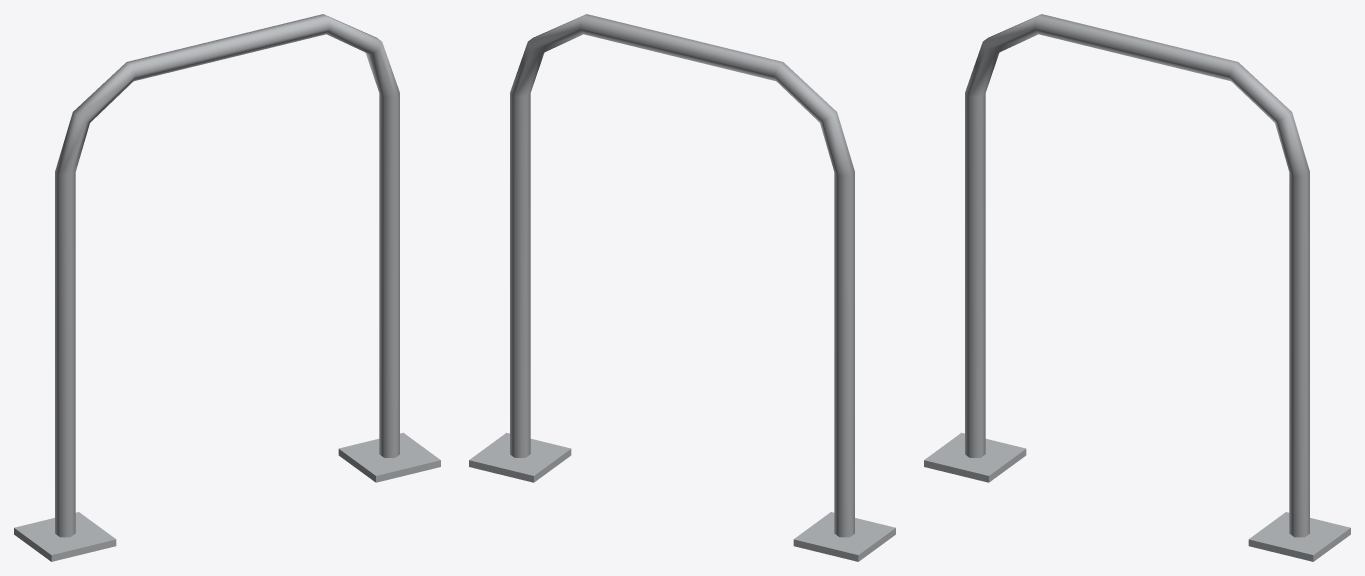
The model's file is rack.glb.
3 views of the same model, side by side, from view 1: azimuth 30°, elevation 25°; view 2: azimuth 150°, elevation 25°; view 3: azimuth 330°, elevation 25° (orthographic).
Visible parts, largest first — view 1: bike; view 2: bike; view 3: bike.
Boxes of the visible parts, x1,y1,x2,y2 form: bike: (14, 14, 440, 561); bike: (469, 14, 895, 561); bike: (924, 14, 1350, 561).
Bounding box in the file's own units: 0.72 × 0.8142 × 0.12.
Materials: 1 (1 with a texture image).
